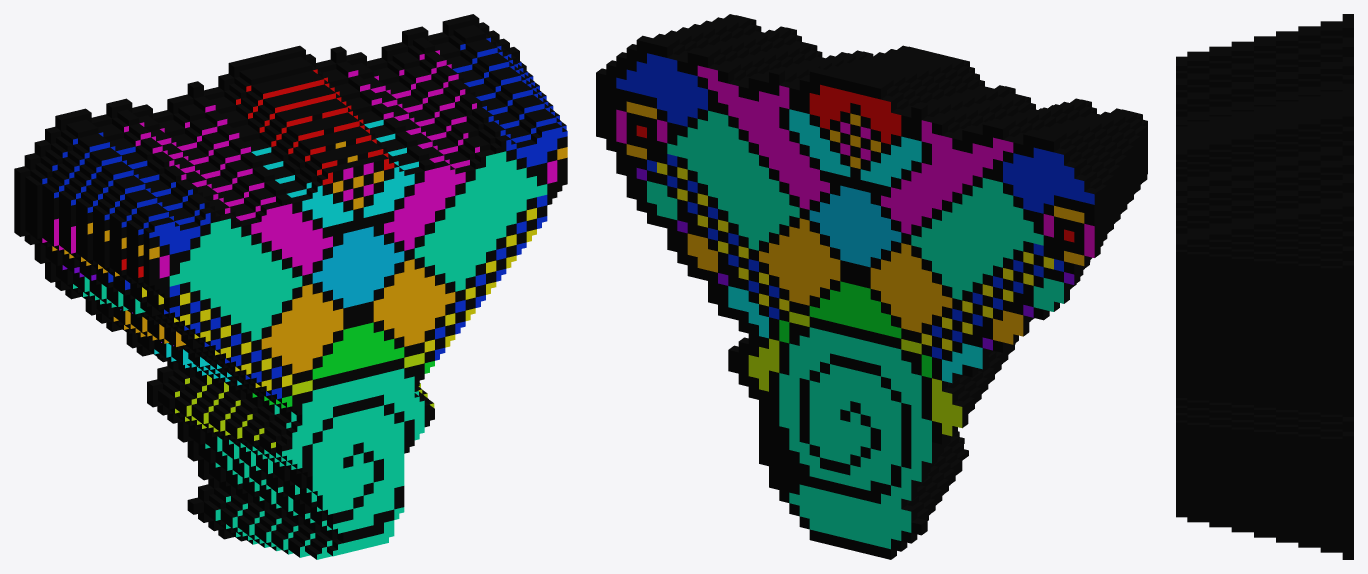
Rendered from dreamlingP7.obj.
3 views of the same model, side by side, from view 1: azimuth 30°, elevation 25°; view 2: azimuth 150°, elevation 25°; view 3: azimuth 270°, elevation 25° (orthographic). The views are drawn at different scales.
Size of the model in its own units: 98 by 88 by 32.
